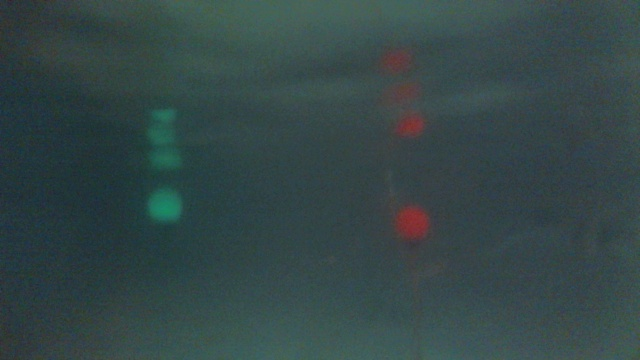buoy_green: (146, 181, 184, 237)
buoy_red: (392, 207, 428, 250)
